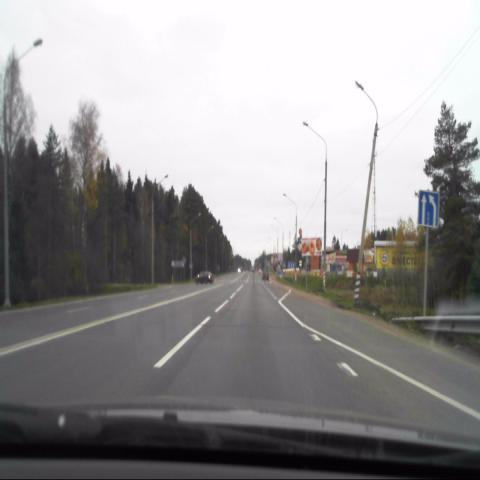5_15_5: (417, 190, 439, 228)
